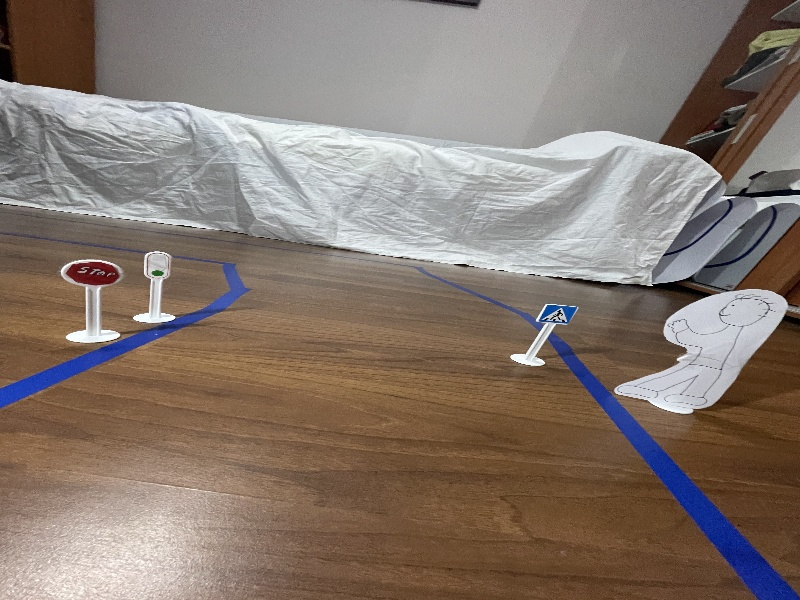persoana: (601, 273, 798, 430)
semafor_verde: (138, 245, 180, 286)
stop: (58, 250, 128, 297)
trecere_pietoni: (533, 295, 583, 332)
